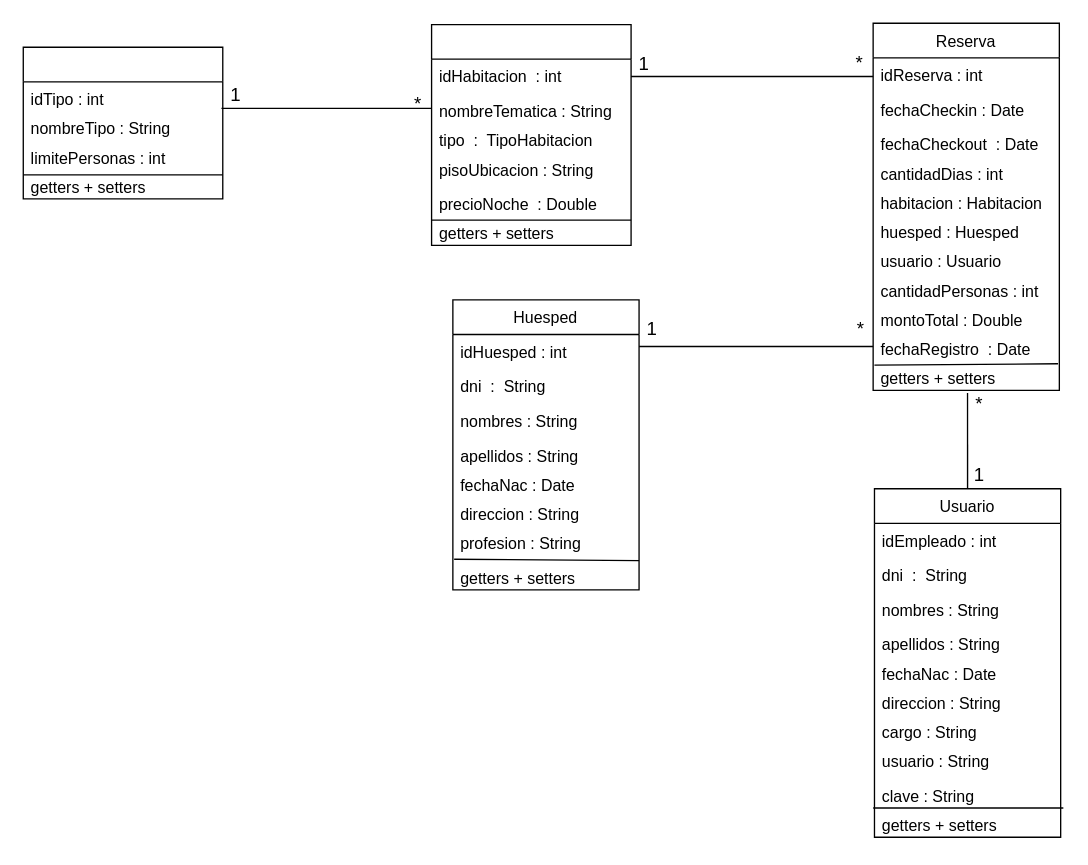
Image size: 1088x865. Some labels were removed from this diagram. Each missing label, with the box of its shape:
Habitación: (430, 23, 631, 245)
TipoHabitacion: (22, 46, 223, 199)
